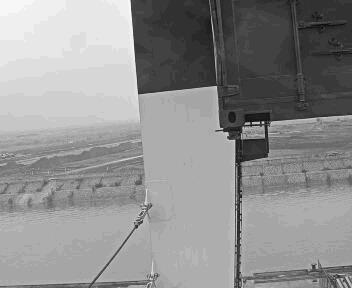twist_lock_1: (140, 130, 168, 151)
